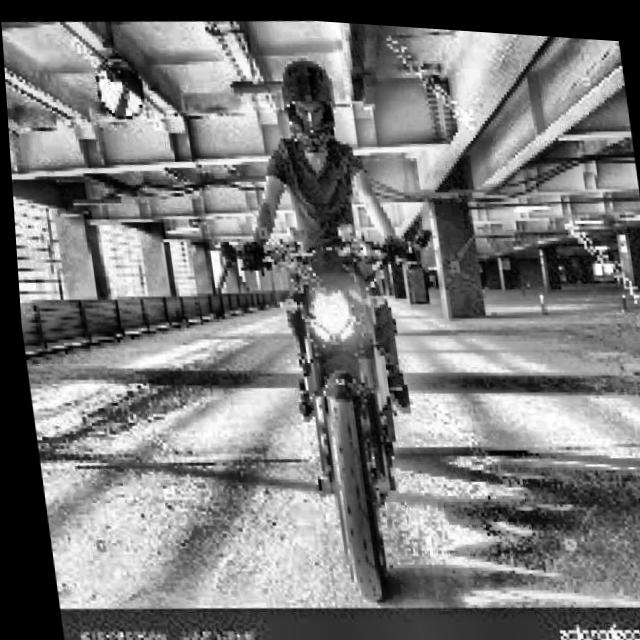motorcycle: (193, 211, 490, 616)
